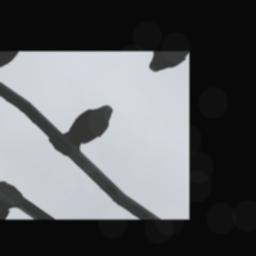Crow: (46, 96, 123, 164)
